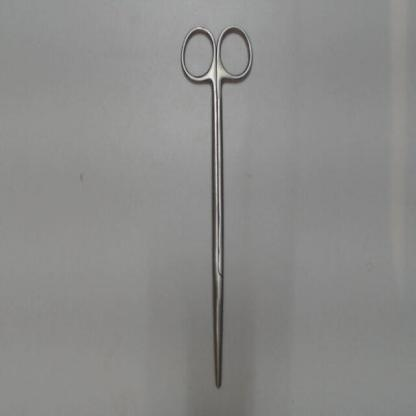9 Metzenbaum Scissors: (175, 20, 257, 396)
